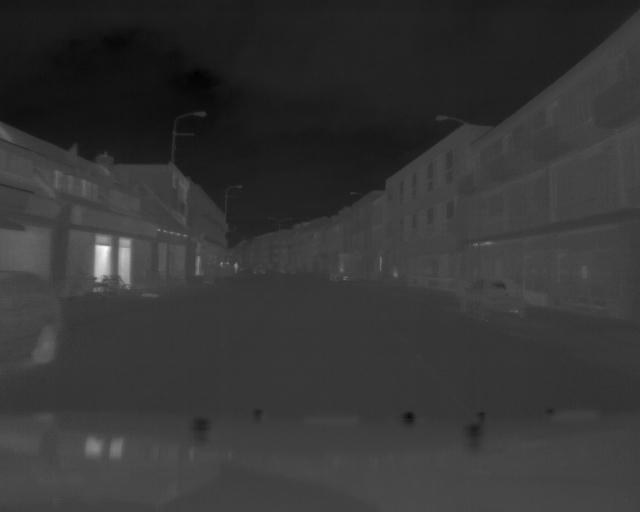car: (2, 268, 57, 361), (465, 269, 534, 325)
person: (232, 255, 242, 272)
